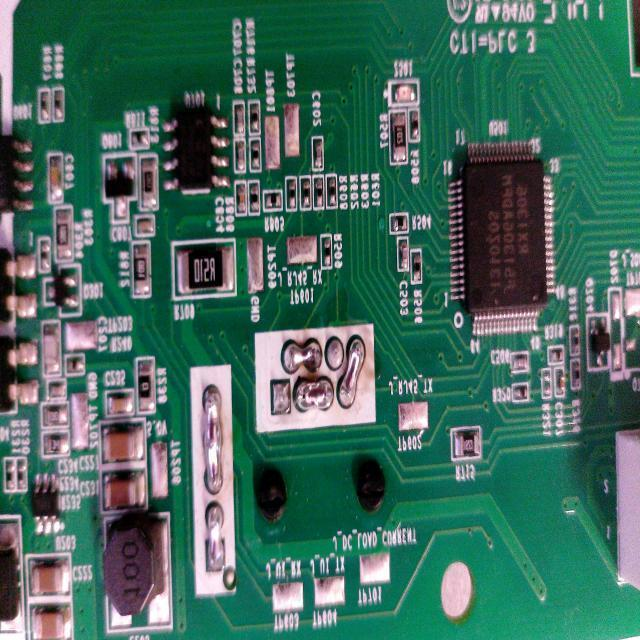Soldering shorted: (202, 385, 226, 494), (338, 335, 371, 410), (284, 329, 326, 378), (292, 376, 334, 416), (207, 502, 223, 575)
